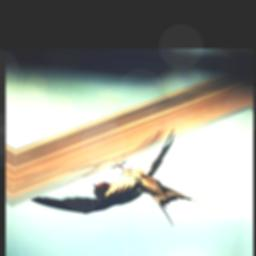Swallow: (26, 118, 228, 233)
